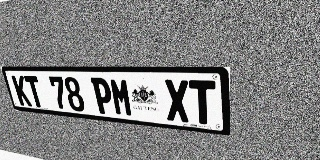7: (48, 76, 70, 110)
8: (63, 77, 86, 112)
K: (11, 75, 32, 106)
M: (109, 78, 134, 117)
P: (90, 77, 115, 115)
T: (189, 80, 216, 125), (24, 76, 45, 108)
X: (164, 79, 190, 123)
